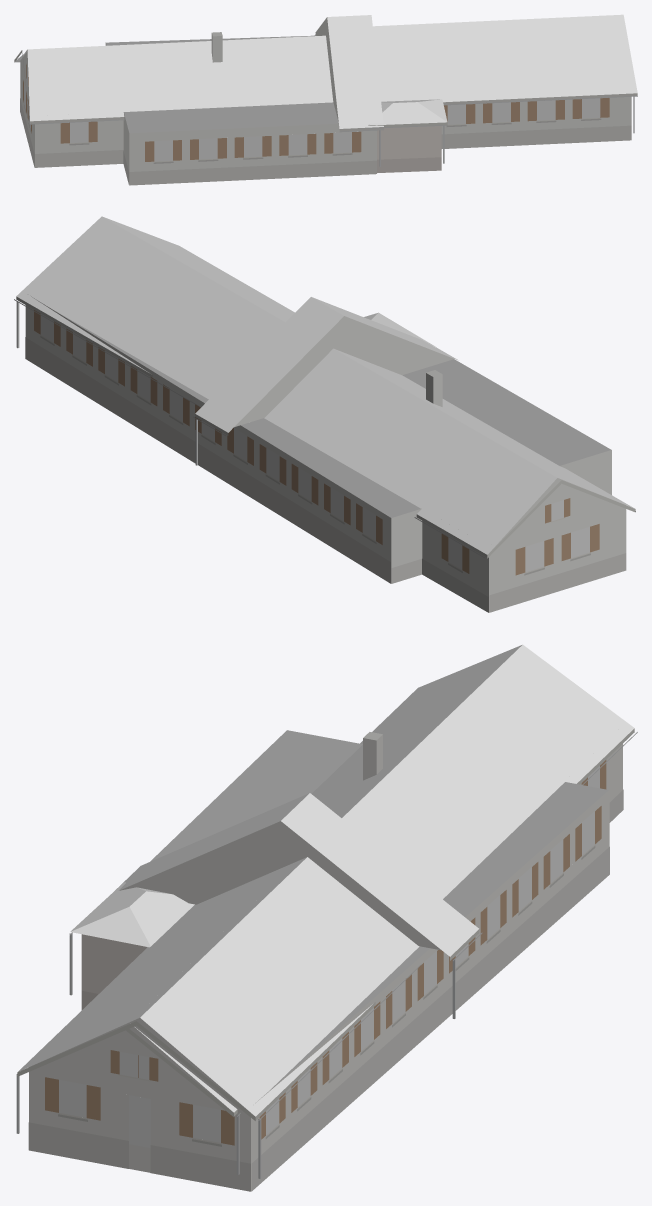
3 renders of one model, top to bottom at view 1: azimuth 30°, elevation 25°; view 2: azimuth 150°, elevation 25°; view 3: azimuth 270°, elevation 25°, orthographic. The views are drawn at different scales.
Parts seen in each view (by area): view 1: bld; view 2: bld; view 3: bld.
Part boxes in pixels (box(x1,y1,x2,y2)): bld: box(14, 14, 637, 185); bld: box(14, 216, 635, 612); bld: box(16, 644, 637, 1191).
Size of the model in its own units: 40.29 by 8.04 by 24.69.
